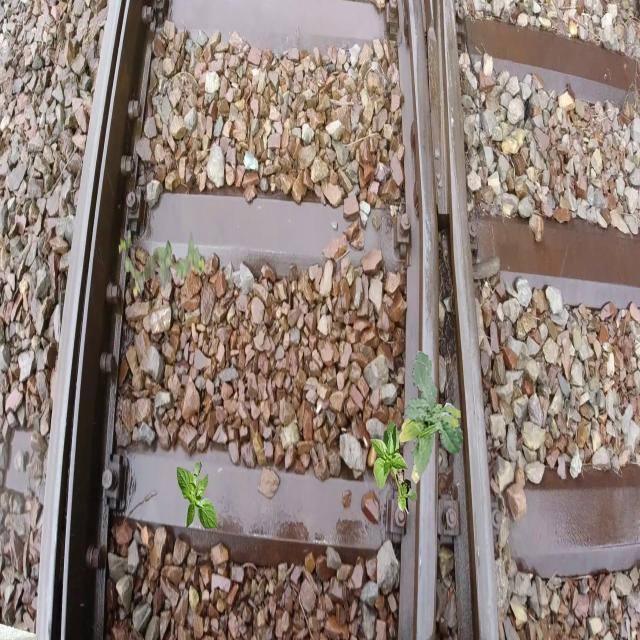Plant: (401, 350, 464, 474), (398, 360, 460, 484), (118, 229, 204, 298), (370, 420, 418, 515), (177, 461, 218, 532)
